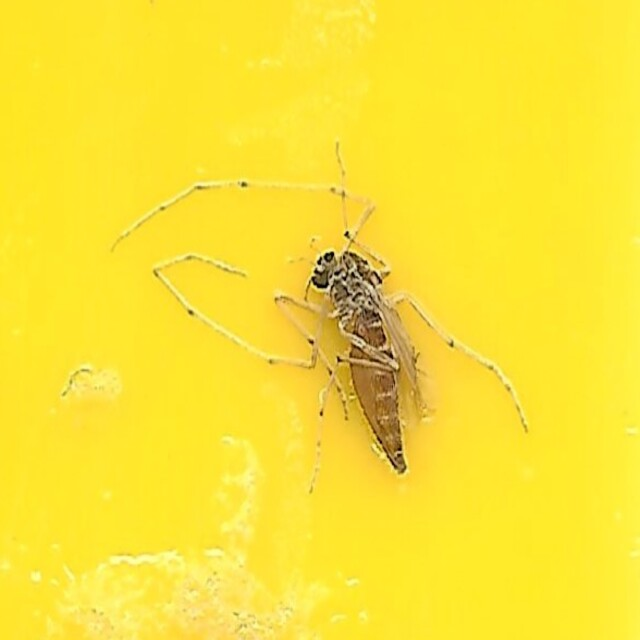Nematocera: (109, 145, 531, 495)
